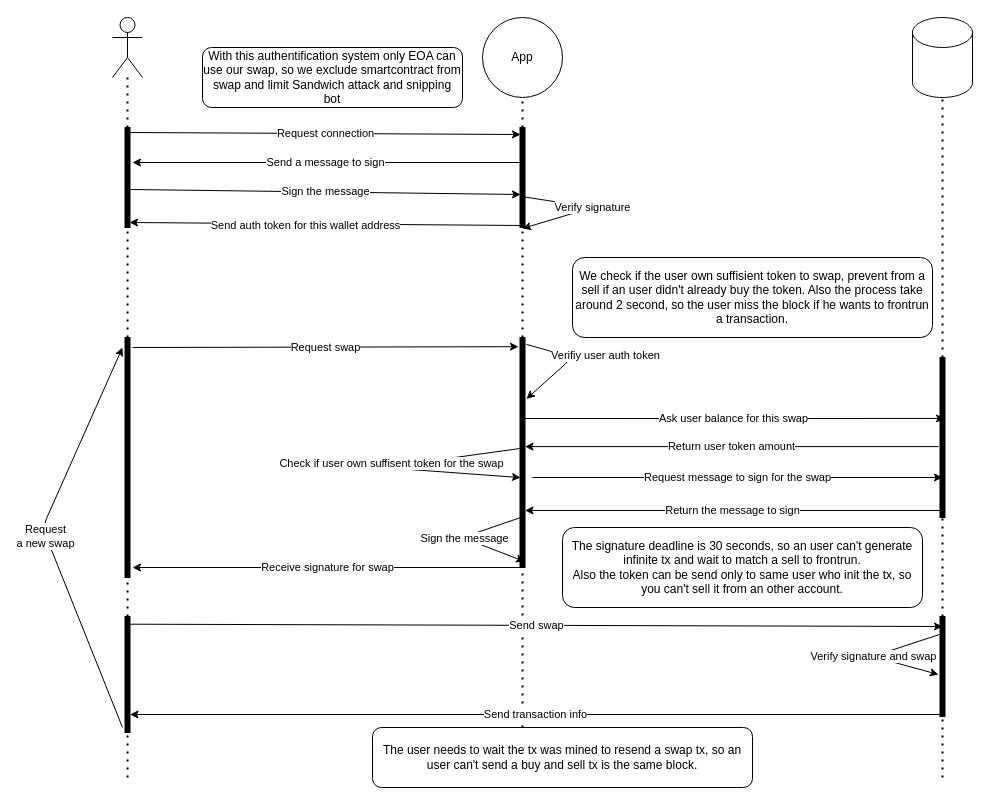
Some shapes in this 991 by 805 pixel diagram are drawn without their labels. Here are the shapes that lost their labels. From the top down, the centre of each, then its label:
(127,47): User
(942,57): Blockchain
